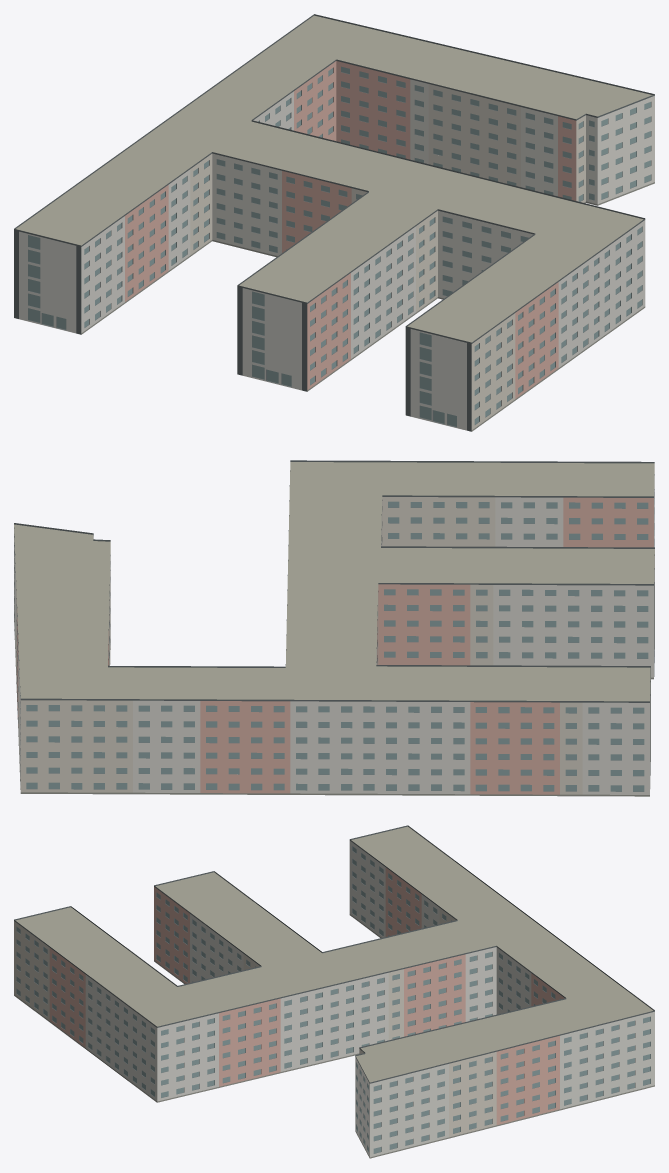
3 views of the same model, one above another, from view 1: azimuth 30°, elevation 25°; view 2: azimuth 150°, elevation 25°; view 3: azimuth 270°, elevation 25° (orthographic). The views are drawn at different scales.
Parts seen in each view (by area): view 1: boardingDorm; view 2: boardingDorm; view 3: boardingDorm.
Part boxes in pixels (x1,y1,x2,y2): boardingDorm: (14, 14, 654, 431); boardingDorm: (14, 460, 654, 796); boardingDorm: (14, 825, 654, 1158).
Bounding box in the file's own units: 142 × 19.52 × 149.
